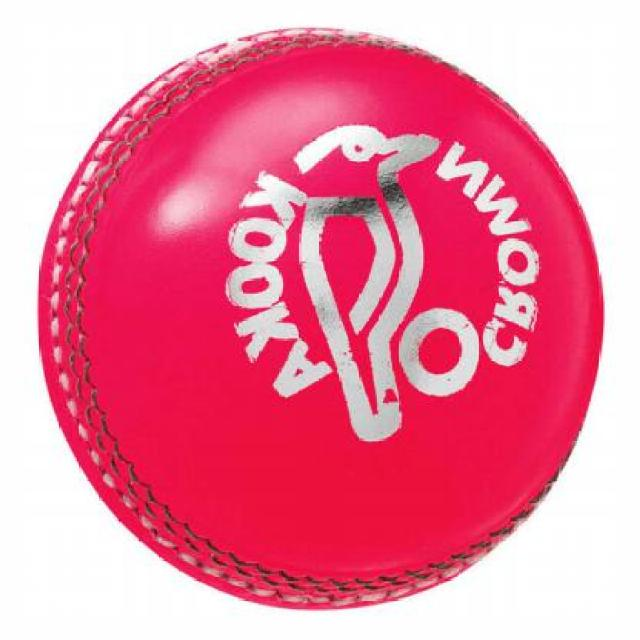ball: (0, 6, 637, 640)
